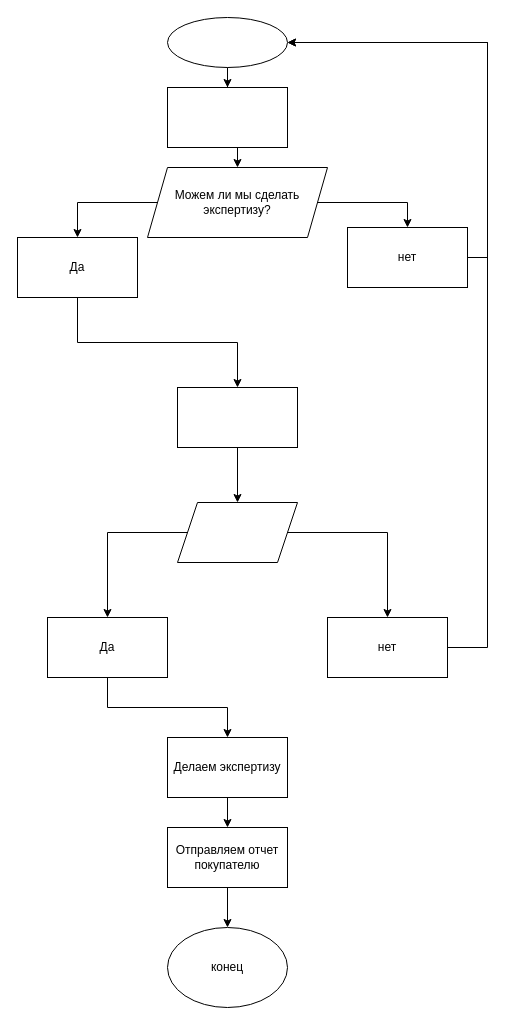
Image size: 513x1025. Some labels were removed from this diagram. Here are the shapes that lost their labels. From the top down, the centre of each, then its label:
the point at 227,42: start
the point at 227,117: Заказ создан
the point at 237,417: Необходима оплата в течении 3-х дней
the point at 237,532: Оплата прошла?
